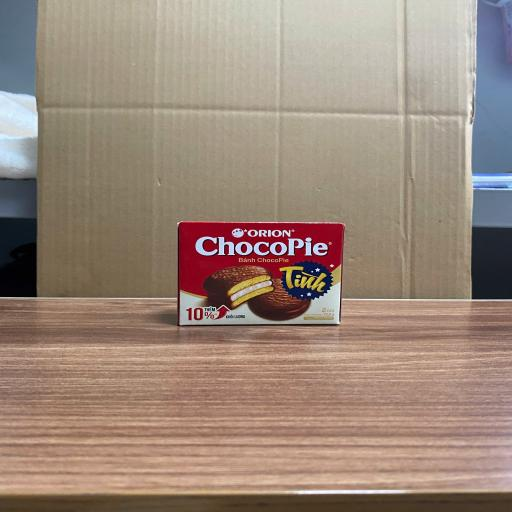chocopie: (175, 221, 345, 327)
